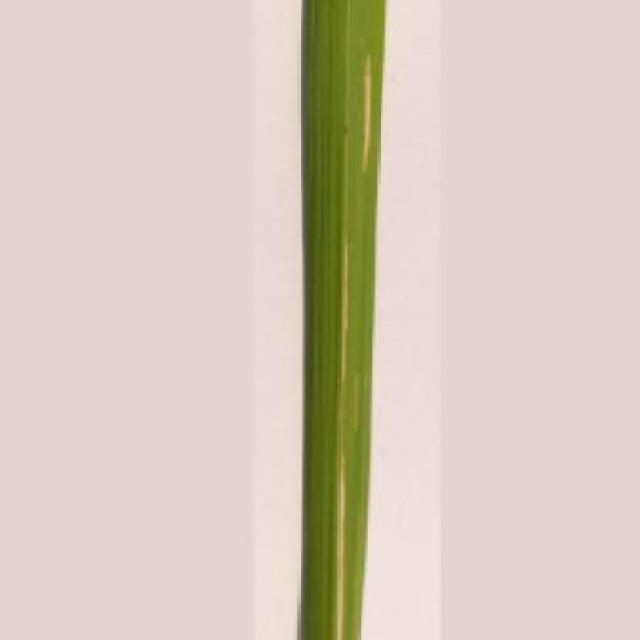Brown_Spot: (298, 0, 388, 640)
